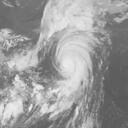cyclone: (54, 38, 90, 81)
